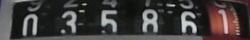digits: (98, 0, 122, 36), (212, 0, 236, 36), (60, 0, 84, 35), (138, 0, 160, 35), (22, 0, 42, 37), (179, 0, 200, 34)
